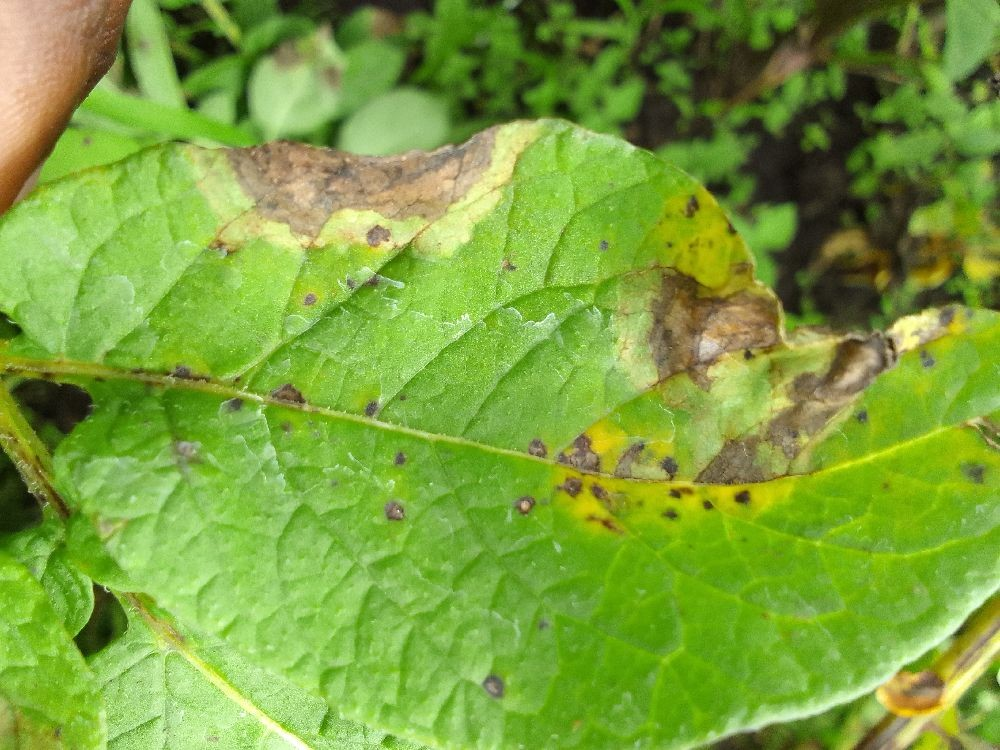late_blight: (511, 126, 999, 547), (189, 70, 558, 284), (0, 0, 158, 243), (836, 584, 1000, 750)
